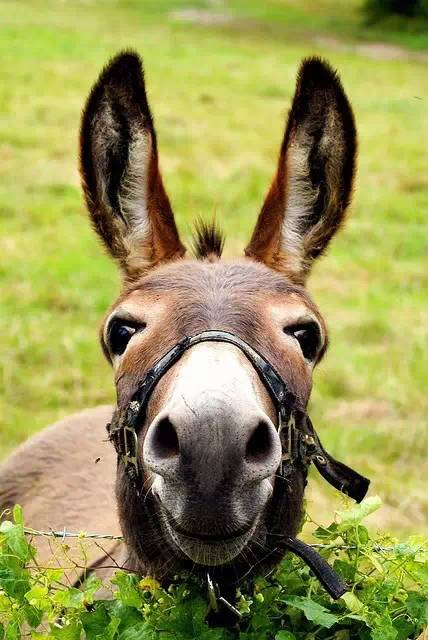background: (1, 55, 371, 638)
